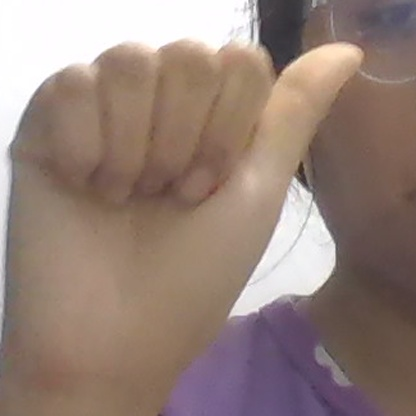A: (0, 42, 361, 379)
